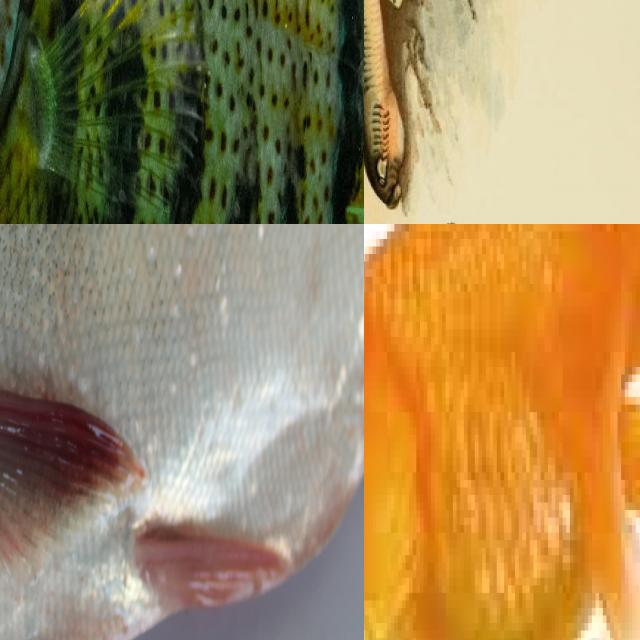fish: (0, 224, 364, 640), (364, 224, 640, 640), (0, 0, 364, 224)
